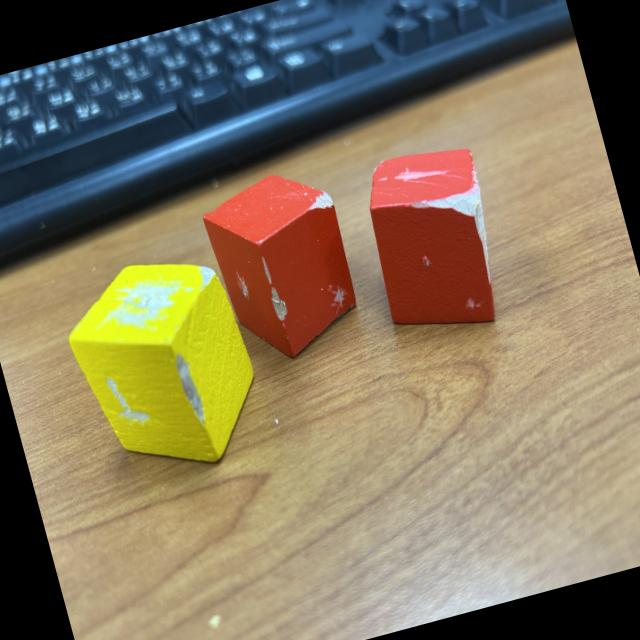broken: (52, 240, 274, 492), (196, 161, 370, 372), (352, 137, 514, 346)
